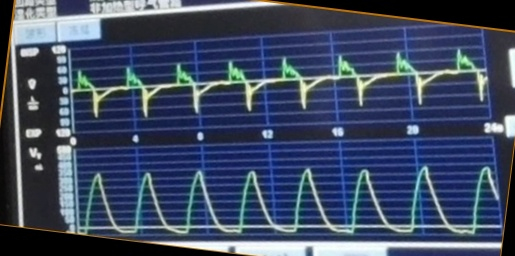Accumulation Flow: (73, 47, 487, 116)
Volume: (80, 165, 498, 237)
